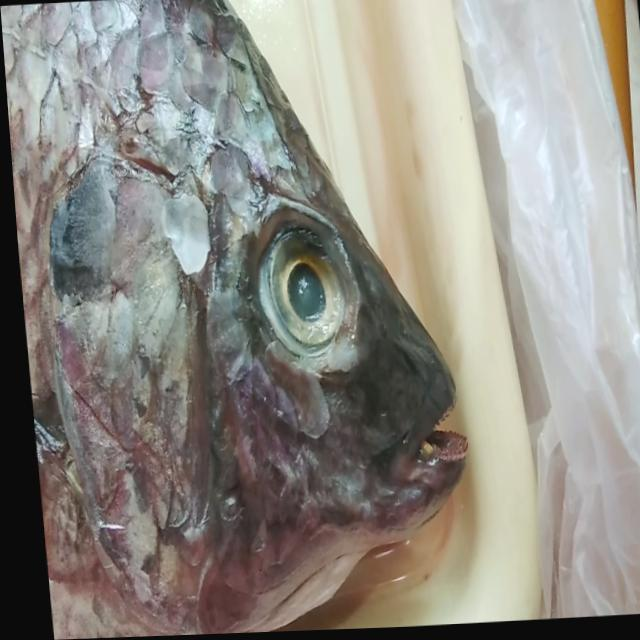Non-Fresh: (5, 88, 242, 589), (225, 183, 368, 375)
